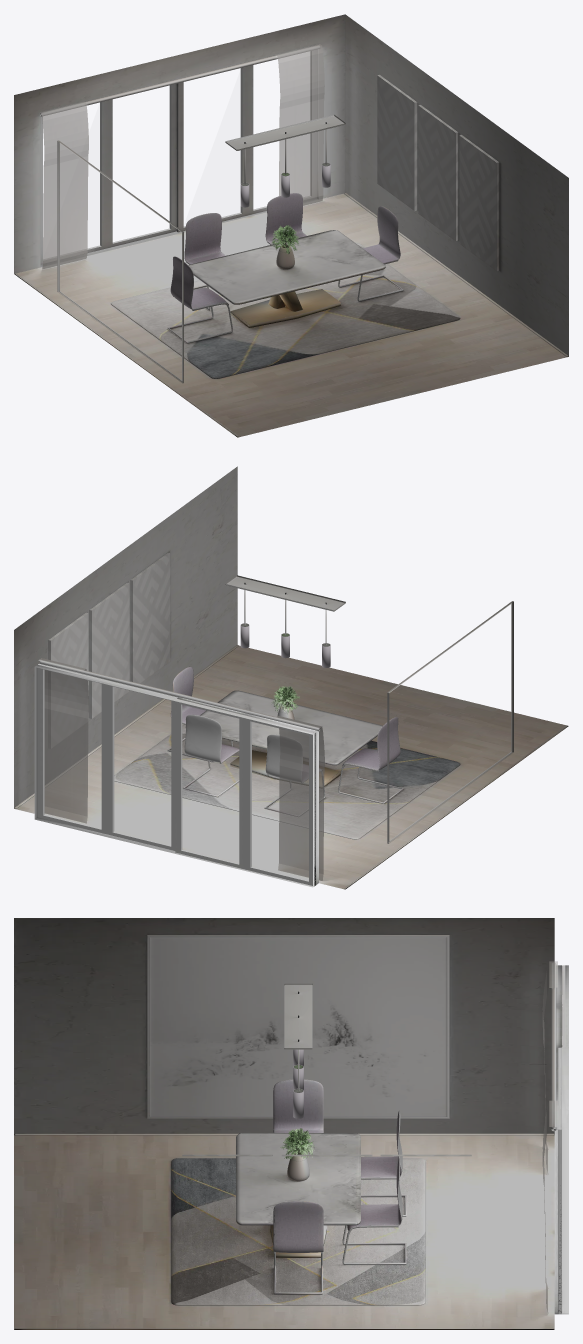
The picture shows the model from 3 angles, top to bottom: view 1: azimuth 30°, elevation 25°; view 2: azimuth 150°, elevation 25°; view 3: azimuth 270°, elevation 25°; orthographic projection. The views are drawn at different scales.
Parts seen in each view (by area): view 1: Walls_Walls_0, Modern_Dining_Room_Floor_0, Carpet_Carpet_0, DiningTable_DiningTable_0, Paintings_Paintings_0, Curtains_Curtains_0, DoorFrame_DoorFrame_0, LightChrome_LightChrome_0, PictureFrame_PictureFrame_0, CurtainPole_CurtainPole_0, LightGlass_Lights_0, Plant_Plant_0; view 2: Modern_Dining_Room_Floor_0, Walls_Walls_0, Carpet_Carpet_0, DoorFrame_DoorFrame_0, Paintings_Paintings_0, DiningTable_DiningTable_0, Curtains_Curtains_0, LightChrome_LightChrome_0, PictureFrame_PictureFrame_0, CurtainPole_CurtainPole_0, LightGlass_Lights_0; view 3: Modern_Dining_Room_Floor_0, Walls_Walls_0, Picture_Picture_0, Carpet_Carpet_0, DiningTable_DiningTable_0, DoorFrame_DoorFrame_0, PictureFrame_PictureFrame_0, LightChrome_LightChrome_0, Curtains_Curtains_0, CurtainPole_CurtainPole_0, Paintings_Paintings_0, Plant_Plant_0 (+1 smaller).
Part boxes in pixels (<box>): Walls_Walls_0: <box>14,14,568,356</box>; Modern_Dining_Room_Floor_0: <box>14,193,568,437</box>; Carpet_Carpet_0: <box>111,242,460,378</box>; DiningTable_DiningTable_0: <box>167,193,403,343</box>; Paintings_Paintings_0: <box>377,74,499,270</box>; Curtains_Curtains_0: <box>40,44,324,269</box>; DoorFrame_DoorFrame_0: <box>40,49,318,267</box>; LightChrome_LightChrome_0: <box>225,114,345,185</box>; PictureFrame_PictureFrame_0: <box>57,140,183,383</box>; CurtainPole_CurtainPole_0: <box>40,45,319,116</box>; LightGlass_Lights_0: <box>240,162,330,207</box>; Plant_Plant_0: <box>271,225,298,253</box>; Modern_Dining_Room_Floor_0: <box>14,645,568,889</box>; Walls_Walls_0: <box>14,466,237,808</box>; Carpet_Carpet_0: <box>114,724,460,839</box>; DoorFrame_DoorFrame_0: <box>34,663,318,887</box>; Paintings_Paintings_0: <box>48,552,170,748</box>; DiningTable_DiningTable_0: <box>167,666,403,816</box>; Curtains_Curtains_0: <box>38,658,324,880</box>; LightChrome_LightChrome_0: <box>225,575,345,646</box>; PictureFrame_PictureFrame_0: <box>387,601,513,843</box>; CurtainPole_CurtainPole_0: <box>40,660,320,731</box>; LightGlass_Lights_0: <box>240,623,330,667</box>; Modern_Dining_Room_Floor_0: <box>14,1133,554,1329</box>; Walls_Walls_0: <box>14,918,554,1134</box>; Picture_Picture_0: <box>150,937,447,1116</box>; Carpet_Carpet_0: <box>171,1158,425,1305</box>; DiningTable_DiningTable_0: <box>236,1079,406,1294</box>; DoorFrame_DoorFrame_0: <box>554,965,568,1314</box>; PictureFrame_PictureFrame_0: <box>147,935,449,1118</box>; LightChrome_LightChrome_0: <box>284,983,312,1092</box>; Curtains_Curtains_0: <box>542,961,557,1313</box>; CurtainPole_CurtainPole_0: <box>551,962,556,1131</box>; Paintings_Paintings_0: <box>182,1154,471,1156</box>; Plant_Plant_0: <box>280,1128,315,1159</box>.
Size of the model in its own units: 5.7 by 2.95 by 6.84.
Materials: 16 (14 with a texture image).
